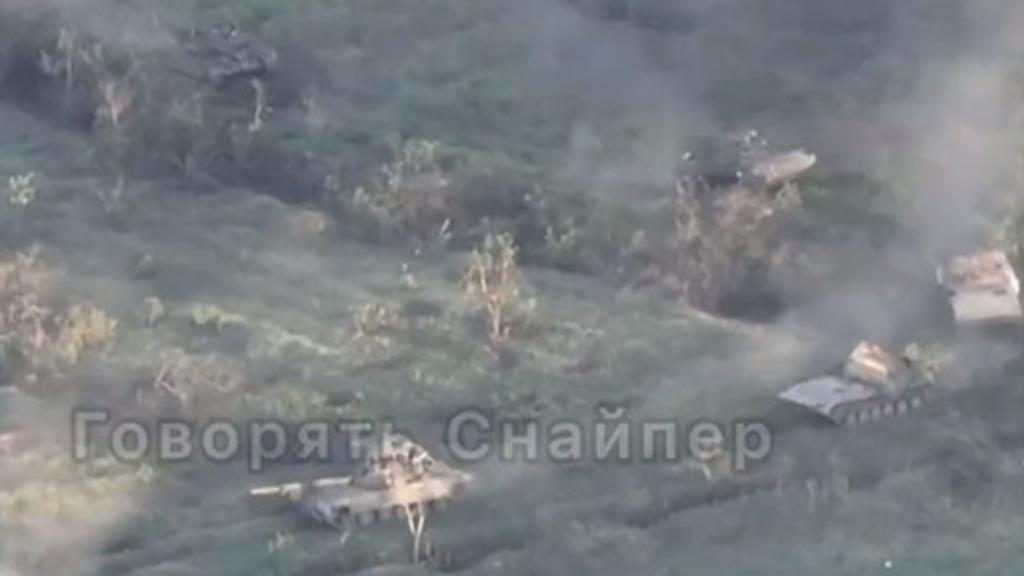APC-IFV: (768, 326, 934, 428), (666, 122, 818, 196), (938, 246, 1020, 328)
TANK: (232, 442, 478, 530), (156, 22, 286, 84)
